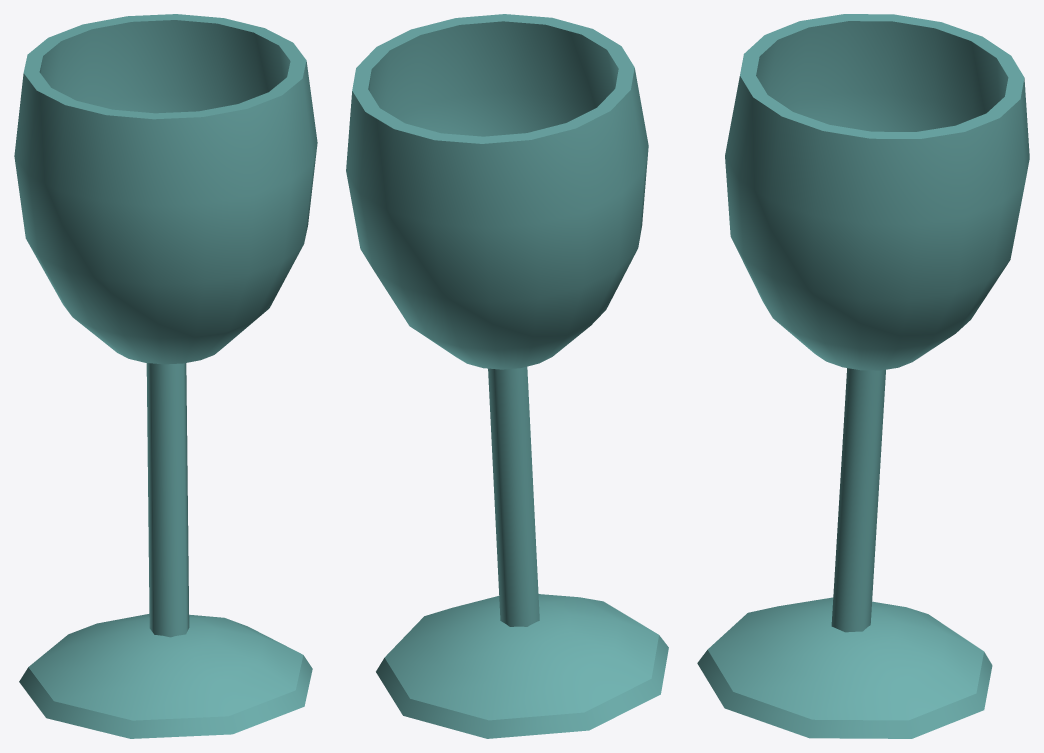
File: verre.FBX
3 views of the same model, side by side, from view 1: azimuth 30°, elevation 25°; view 2: azimuth 150°, elevation 25°; view 3: azimuth 270°, elevation 25° (orthographic).
Parts seen in each view (by area): view 1: ari001; view 2: ari001; view 3: ari001.
Part boxes in pixels (bbox=[...]): ari001: bbox=[14, 14, 317, 738]; ari001: bbox=[346, 14, 668, 738]; ari001: bbox=[697, 14, 1029, 738].
Bounding box in the file's own units: 18.95 × 19.85 × 40.92.
